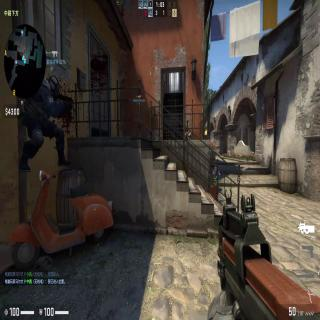CT-Head: (48, 72, 59, 98)
